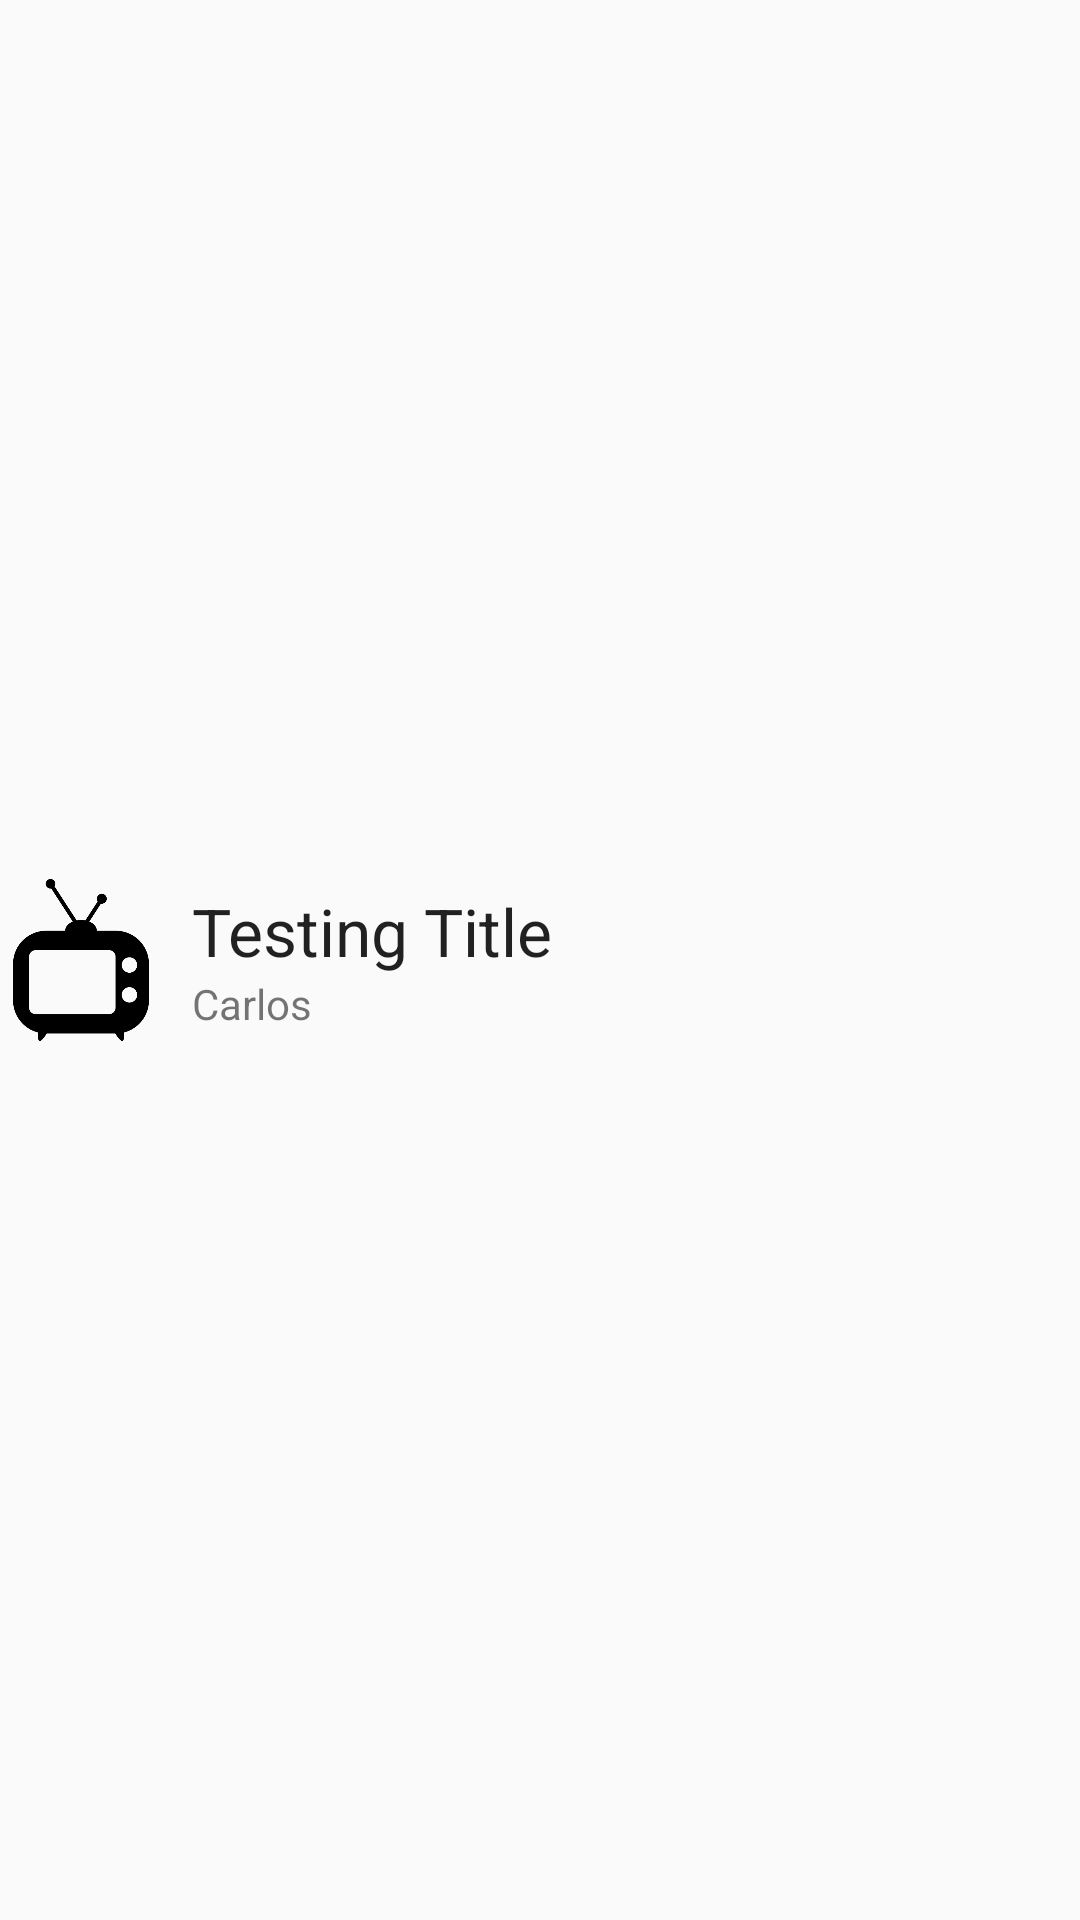

Icons on this 1080x1920 Android screen, each with the point to tap as (x,y):
blk series: (81,960)
